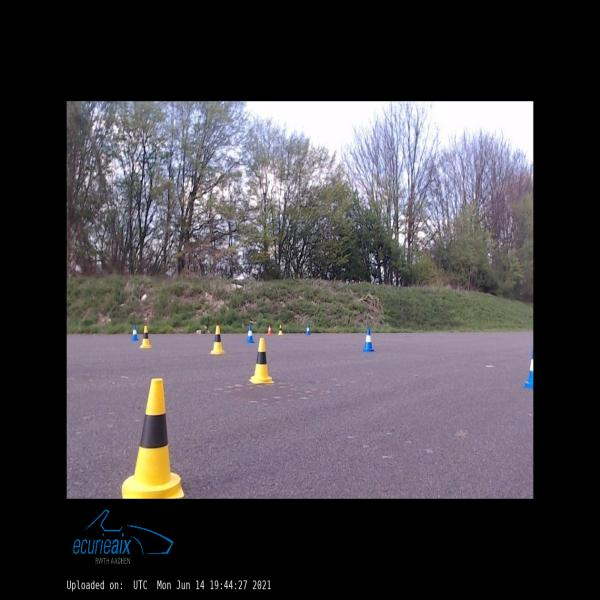blue_cone: (523, 348, 533, 389), (363, 328, 374, 352), (246, 325, 254, 343), (131, 326, 139, 340), (305, 325, 310, 335)
orange_cone: (267, 325, 272, 334)
yellow_cone: (122, 379, 184, 499), (249, 338, 274, 383), (209, 326, 225, 353), (140, 326, 152, 348), (278, 325, 283, 334)
